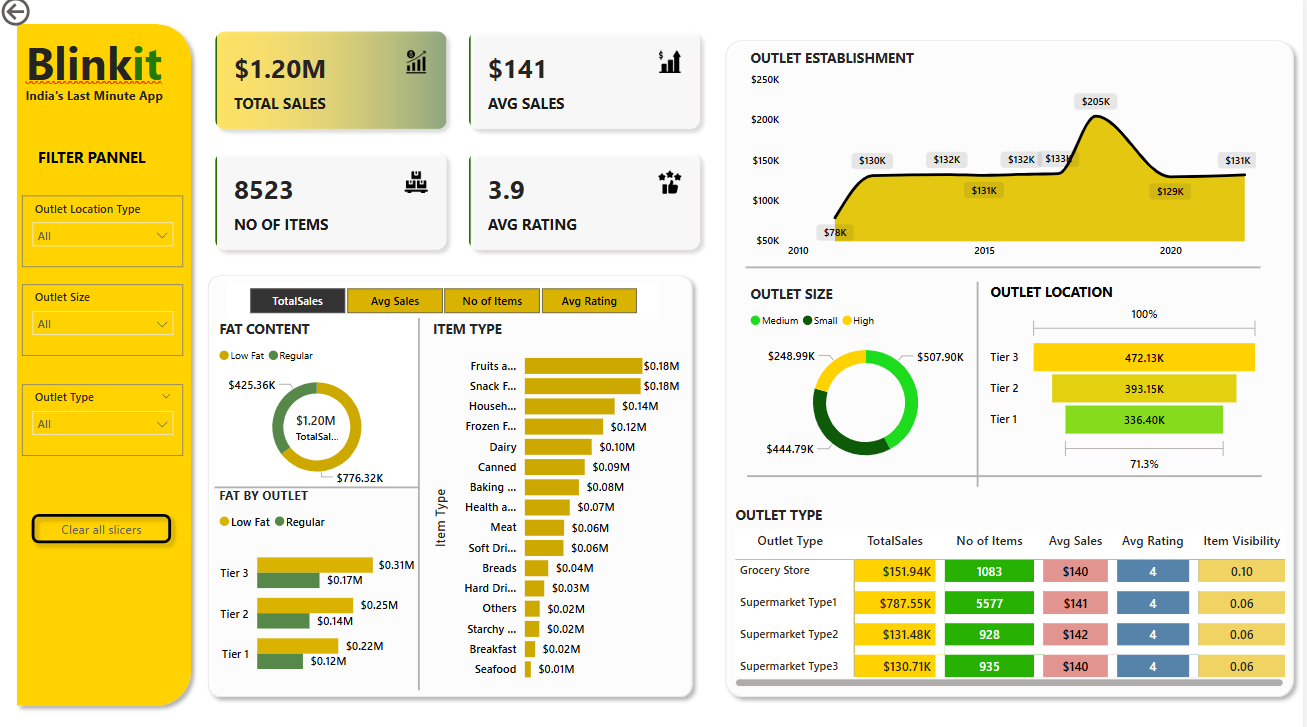

This screenshot's page, from the dashboard's own definition file:
{"tool":"powerbi","page":{"name":"Page 1","canvas":[1400,800],"ordinal":0},"visuals":[{"type":"shape","box":[12.1,24.1,205.1,749.3],"z":0},{"type":"textbox","box":[25.5,95.2,160.9,28.2],"z":1000},{"type":"textbox","box":[25.5,36.2,174.3,73.7],"z":2000},{"type":"cardVisual","fields":{"Data":["BlinkIT Grocery Data.TotalSales","BlinkIT Grocery Data.Avg Sales","BlinkIT Grocery Data.No of Items","BlinkIT Grocery Data.Avg Rating"]},"box":[217.2,24.1,555,269.4],"z":3000},{"type":"shape","box":[217.2,293.6,537.5,470.5],"z":4000},{"type":"donutChart","title":"FAT CONTENT","fields":{"Y":["BlinkIT Grocery Data.TotalSales"],"Category":["BlinkIT Grocery Data.Item Fat Content"]},"box":[233.2,349.9,219.8,183.6],"z":5000},{"type":"slicer","fields":{"Values":["Metrics.Metrics"]},"box":[245.3,309.7,465.1,40.2],"z":6000},{"type":"cardVisual","fields":{"Data":["BlinkIT Grocery Data.TotalSales"]},"box":[301.6,431.6,81.8,59],"z":7000},{"type":"clusteredBarChart","title":"FAT BY OUTLET","fields":{"Y":["BlinkIT Grocery Data.TotalSales"],"Category":["BlinkIT Grocery Data.Outlet Location Type"],"Series":["BlinkIT Grocery Data.Item Fat Content"]},"box":[233.2,529.5,219.8,219.8],"z":8000},{"type":"shape","box":[233.2,512.1,219.8,36.2],"z":9000},{"type":"shape","box":[423.6,348.5,57.6,399.5],"z":10000},{"type":"barChart","title":"ITEM TYPE","fields":{"Y":["BlinkIT Grocery Data.TotalSales"],"Category":["BlinkIT Grocery Data.Item Type"]},"box":[462.5,349.9,274.8,398.1],"z":11000},{"type":"shape","box":[772.1,41.6,627.3,722.5],"z":12000},{"type":"lineChart","title":"OUTLET ESTABLISHMENT","fields":{"Y":["BlinkIT Grocery Data.TotalSales"],"Category":["BlinkIT Grocery Data.Outlet Establishment Year"]},"box":[803,59,552.3,234.6],"z":13000},{"type":"shape","box":[803,276.1,552.3,36.2],"z":14000},{"type":"donutChart","title":"OUTLET SIZE","fields":{"Y":["BlinkIT Grocery Data.TotalSales"],"Category":["BlinkIT Grocery Data.Outlet Size"]},"box":[803,312.3,257.4,206.4],"z":15000},{"type":"shape","box":[1022.8,309.7,57.6,219.8],"z":16000},{"type":"funnel","title":"OUTLET LOCATION","fields":{"Y":["Sum(BlinkIT Grocery Data.Sales)"],"Category":["BlinkIT Grocery Data.Outlet Location Type"]},"box":[1060.3,309.7,298.9,209.1],"z":17000},{"type":"shape","box":[804.3,500,552.3,36.2],"z":18000},{"type":"pivotTable","title":"OUTLET TYPE","fields":{"Values":["BlinkIT Grocery Data.TotalSales","BlinkIT Grocery Data.No of Items","BlinkIT Grocery Data.Avg Sales","BlinkIT Grocery Data.Avg Rating","Avg(BlinkIT Grocery Data.Item Visibility)"],"Rows":["BlinkIT Grocery Data.Outlet Type"]},"box":[786.9,549.6,599.2,199.7],"z":19000},{"type":"actionButton","box":[0,0,100,40],"z":20000},{"type":"slicer","fields":{"Values":["BlinkIT Grocery Data.Outlet Location Type"]},"box":[26.8,217.2,172.9,76.4],"z":21000},{"type":"slicer","fields":{"Values":["BlinkIT Grocery Data.Outlet Size"]},"box":[26.8,312.3,172.9,76.4],"z":22000},{"type":"slicer","fields":{"Values":["BlinkIT Grocery Data.Outlet Type"]},"box":[26.8,419.6,172.9,76.4],"z":22001},{"type":"textbox","box":[38.9,159.5,160.9,33.5],"z":22002},{"type":"actionButton","box":[28.2,549.6,167.6,49.6],"z":22003}]}

Visuals, with their boxes in screenshot pixels (x1, y1, x2, y2), scaled from the page's 1400x800 canvas onto the 1307x727 screenshot:
shape: detection(11, 22, 203, 703)
textbox: detection(24, 87, 174, 112)
textbox: detection(24, 33, 187, 100)
cardVisual - BlinkIT Grocery Data.TotalSales x BlinkIT Grocery Data.Avg Sales: detection(203, 22, 721, 267)
shape: detection(203, 267, 705, 694)
"FAT CONTENT" donutChart: detection(218, 318, 423, 485)
slicer - Metrics.Metrics: detection(229, 281, 663, 318)
cardVisual - BlinkIT Grocery Data.TotalSales: detection(282, 392, 358, 446)
"FAT BY OUTLET" clusteredBarChart: detection(218, 481, 423, 681)
shape: detection(218, 465, 423, 498)
shape: detection(395, 317, 449, 680)
"ITEM TYPE" barChart: detection(432, 318, 688, 680)
shape: detection(721, 38, 1306, 694)
"OUTLET ESTABLISHMENT" lineChart: detection(750, 54, 1265, 267)
shape: detection(750, 251, 1265, 284)
"OUTLET SIZE" donutChart: detection(750, 284, 990, 471)
shape: detection(955, 281, 1009, 481)
"OUTLET LOCATION" funnel: detection(990, 281, 1269, 471)
shape: detection(751, 454, 1266, 487)
"OUTLET TYPE" pivotTable: detection(735, 499, 1294, 681)
actionButton: detection(0, 0, 93, 36)
slicer - BlinkIT Grocery Data.Outlet Location Type: detection(25, 197, 186, 267)
slicer - BlinkIT Grocery Data.Outlet Size: detection(25, 284, 186, 353)
slicer - BlinkIT Grocery Data.Outlet Type: detection(25, 381, 186, 451)
textbox: detection(36, 145, 187, 175)
actionButton: detection(26, 499, 183, 545)
